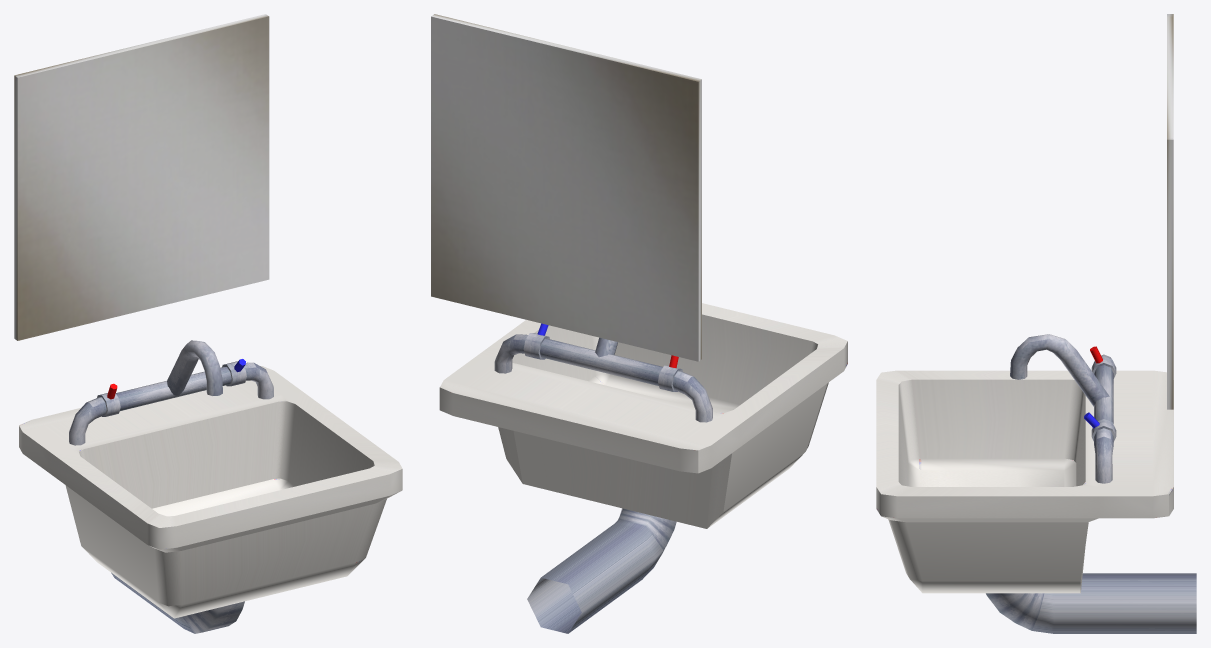
The model's file is obj_sink.fbx.
The picture shows the model from 3 angles, left to right: view 1: azimuth 30°, elevation 25°; view 2: azimuth 150°, elevation 25°; view 3: azimuth 270°, elevation 25°; orthographic projection. The views are drawn at different scales.
Parts seen in each view (by area): view 1: polySurface82; view 2: polySurface82; view 3: polySurface82.
Part boxes in pixels (left/top/right/bottom): polySurface82: left=14, top=14, right=402, bottom=633; polySurface82: left=431, top=14, right=847, bottom=633; polySurface82: left=876, top=14, right=1196, bottom=633.
Bounding box in the file's own units: 1.01 × 2.04 × 1.08.
1 material, 1 textured.
